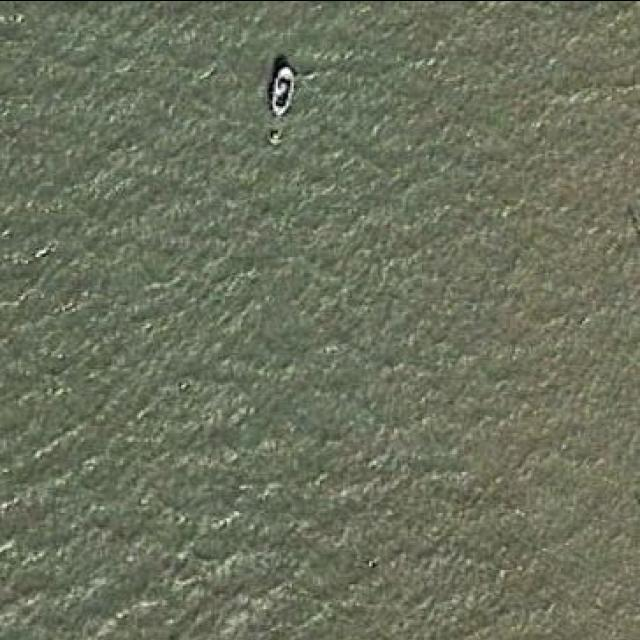ship: (265, 64, 299, 122)
